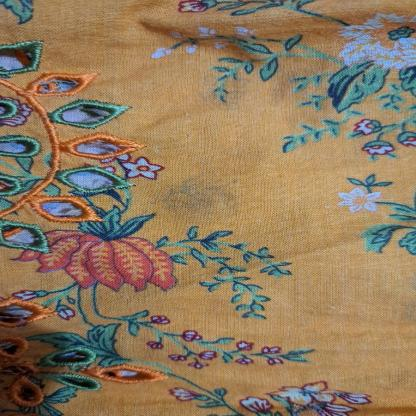spot: (127, 169, 257, 227)
